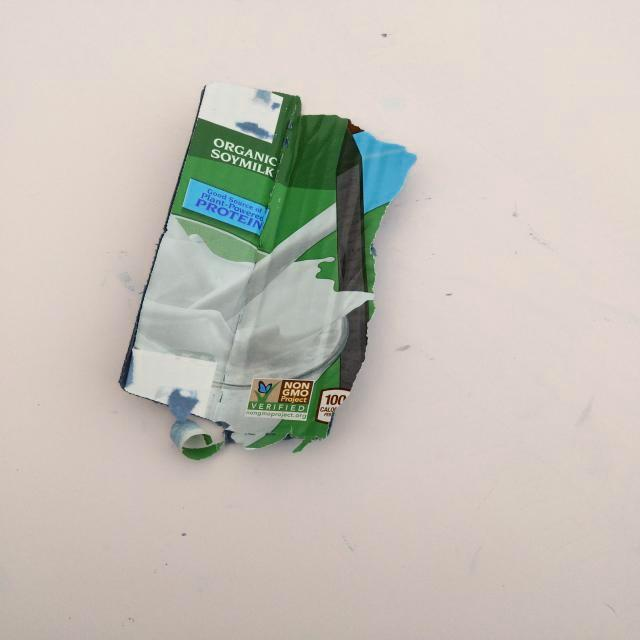cardboard: (99, 46, 426, 472)
